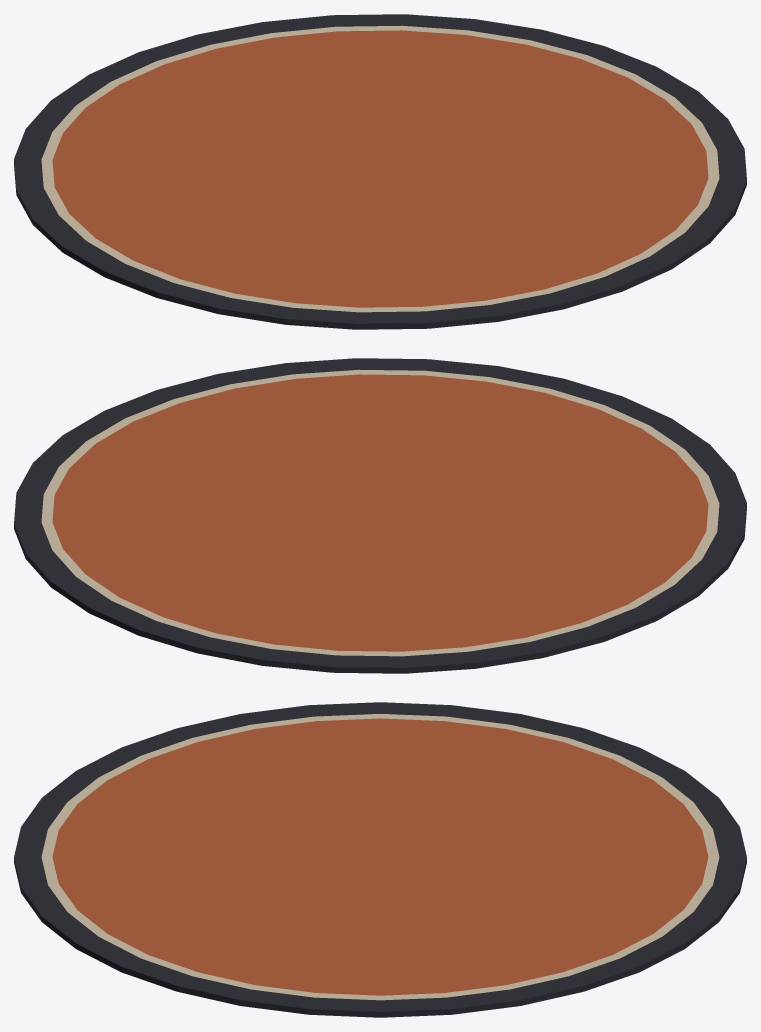
The model's file is FN_Rug_Round.obj.
The picture shows the model from 3 angles, top to bottom: view 1: azimuth 30°, elevation 25°; view 2: azimuth 150°, elevation 25°; view 3: azimuth 270°, elevation 25°; orthographic projection.
Parts seen in each view (by area): view 1: FN_Rug_Round; view 2: FN_Rug_Round; view 3: FN_Rug_Round.
Boxes of the visible parts, box(x1,y1,x2,y2) form: FN_Rug_Round: box(14, 14, 746, 329); FN_Rug_Round: box(14, 358, 746, 673); FN_Rug_Round: box(14, 702, 746, 1017).
Bounding box in the file's own units: 1.6 × 0.014 × 1.6.
Materials: 1 (1 with a texture image).
